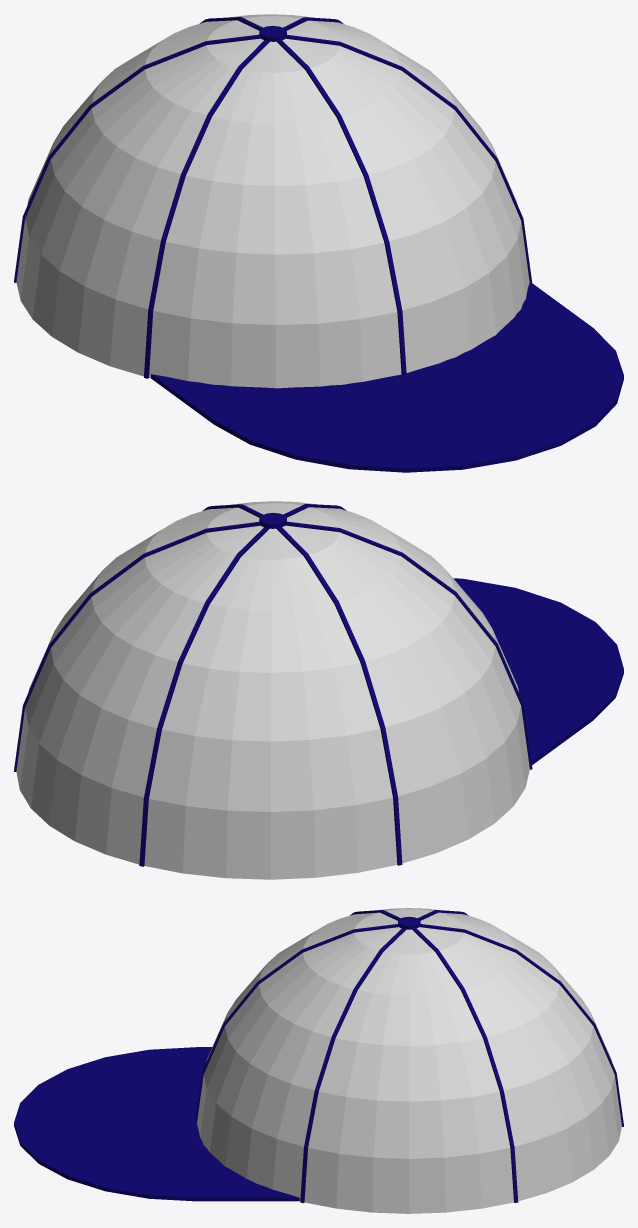
File: cap.dae
The picture shows the model from 3 angles, top to bottom: view 1: azimuth 30°, elevation 25°; view 2: azimuth 150°, elevation 25°; view 3: azimuth 270°, elevation 25°; orthographic projection. The views are drawn at different scales.
Visible parts, largest first — view 1: __1; view 2: __1; view 3: __1.
Boxes of the visible parts, x1=… form: __1: x1=14, y1=14, x2=623, y2=472; __1: x1=14, y1=501, x2=623, y2=879; __1: x1=14, y1=908, x2=623, y2=1213.
Bounding box in the file's own units: 0.1024 × 0.1503 × 0.0556.
